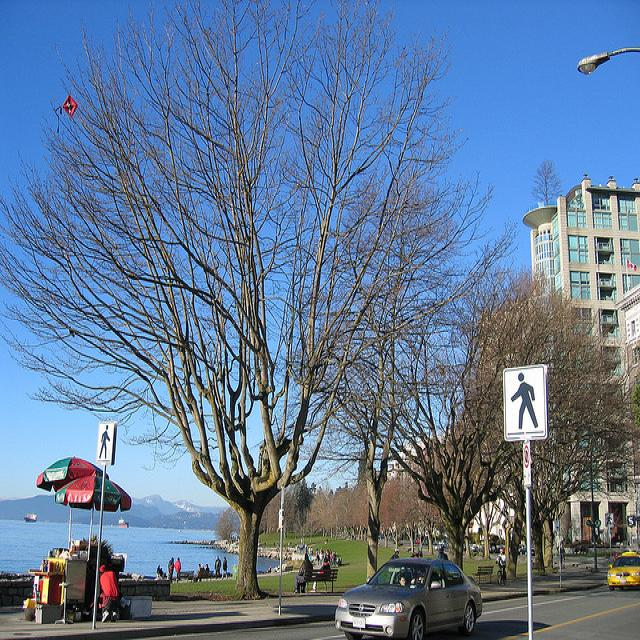Vehicle: (335, 558, 483, 639), (607, 551, 640, 591)
